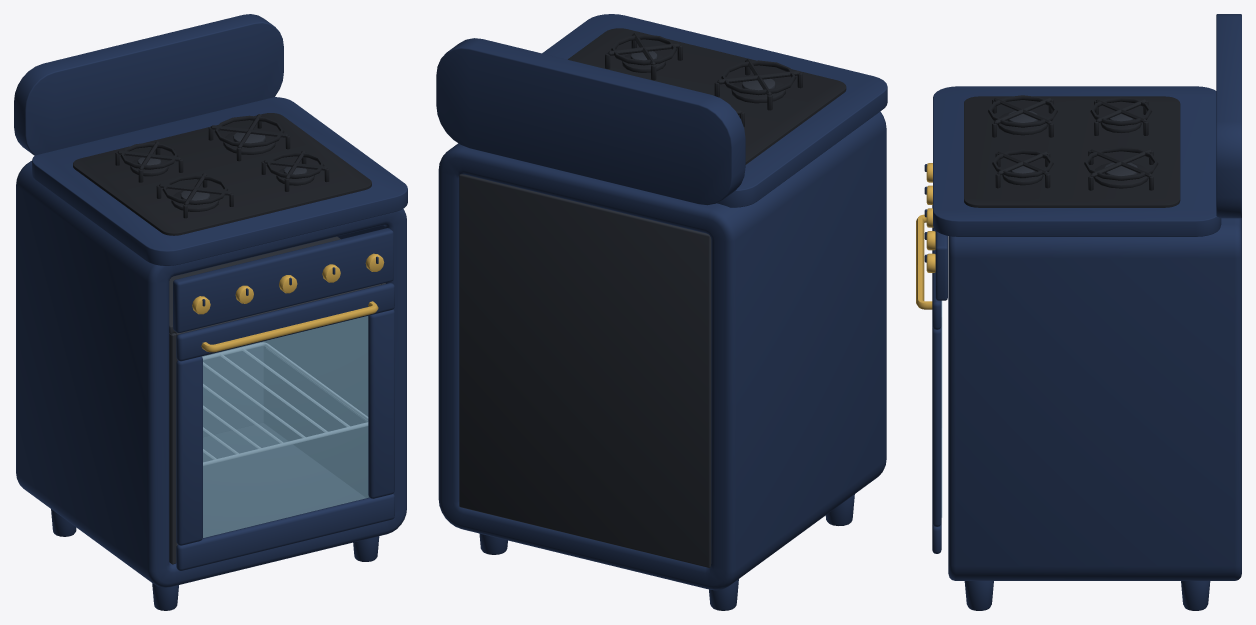
File: fogao_ferro_azul.glb
The picture shows the model from 3 angles, left to right: view 1: azimuth 30°, elevation 25°; view 2: azimuth 150°, elevation 25°; view 3: azimuth 270°, elevation 25°; orthographic projection. The views are drawn at different scales.
Parts seen in each view (by area): view 1: fogao_ferro_azul, porta_forno; view 2: fogao_ferro_azul; view 3: fogao_ferro_azul, porta_forno.
Part boxes in pixels (x1,y1,x2,y2): fogao_ferro_azul: (14,14,407,610); porta_forno: (176,283,394,570); fogao_ferro_azul: (436,14,887,610); fogao_ferro_azul: (924,14,1241,610); porta_forno: (916,205,942,553).
Size of the model in its own units: 0.62 by 1.04 by 0.633.
2 materials, 1 textured.
